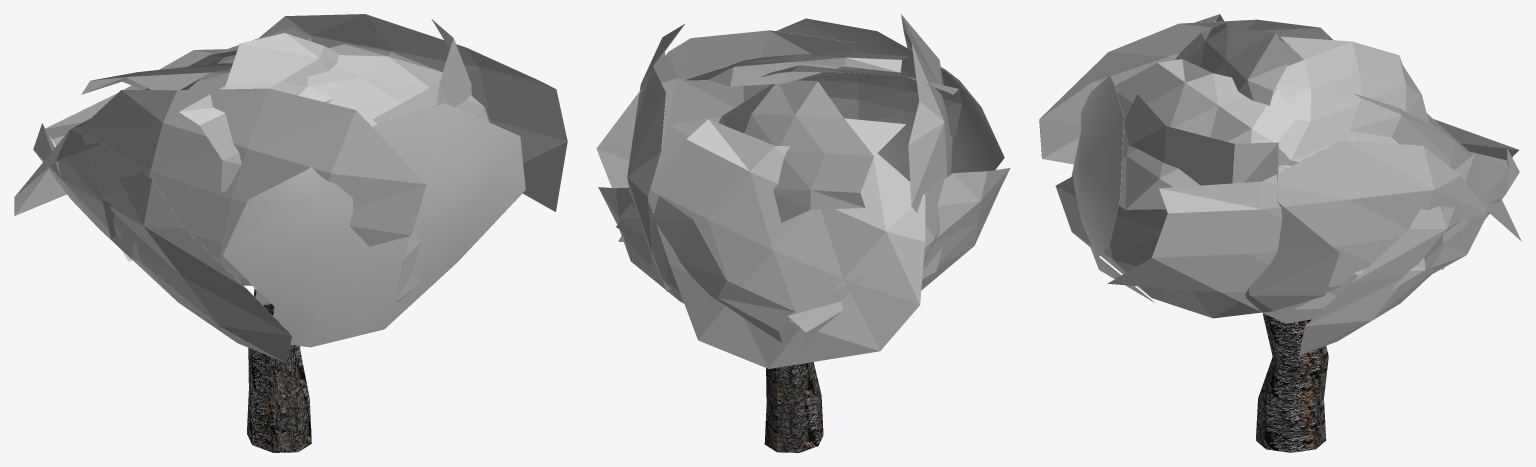
The model's file is arbol-azul.fbx.
3 renders of one model, left to right at view 1: azimuth 30°, elevation 25°; view 2: azimuth 150°, elevation 25°; view 3: azimuth 270°, elevation 25°, orthographic. The views are drawn at different scales.
Visible parts, largest first — view 1: azul; view 2: azul; view 3: azul.
Boxes of the visible parts, left/top/right/bottom form: azul: left=14, top=14, right=567, bottom=452; azul: left=596, top=14, right=1010, bottom=452; azul: left=1039, top=14, right=1521, bottom=452.
Bounding box in the file's own units: 18.32 × 19.64 × 17.34.
